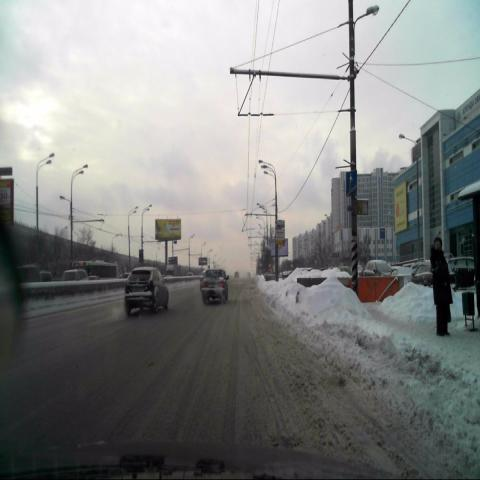6_6: (346, 169, 358, 198)
